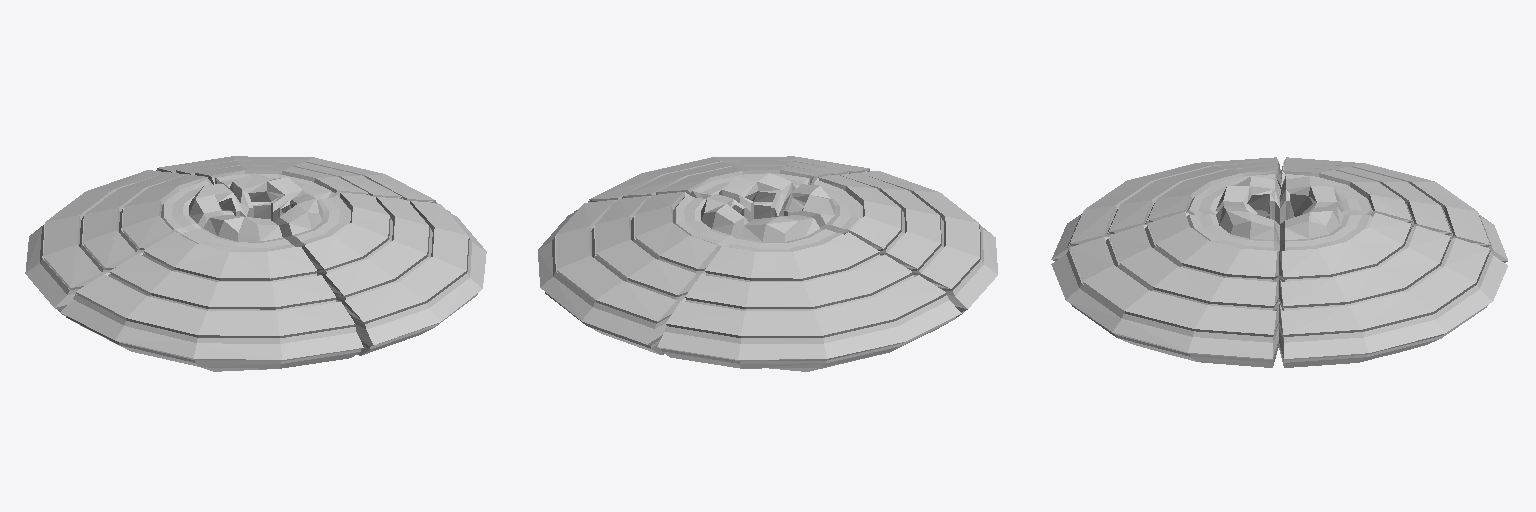
Rendered from ufo.obj.
3 views of the same model, side by side, from view 1: azimuth 30°, elevation 25°; view 2: azimuth 150°, elevation 25°; view 3: azimuth 270°, elevation 25° (orthographic).
Visible parts, largest first — view 1: ufo; view 2: ufo; view 3: ufo.
Part boxes in pixels (x1,y1,x2,y2): ufo: (25,156,486,371); ufo: (538,156,997,371); ufo: (1051,157,1507,367).
Size of the model in its own units: 8.16 by 2.26 by 8.16.